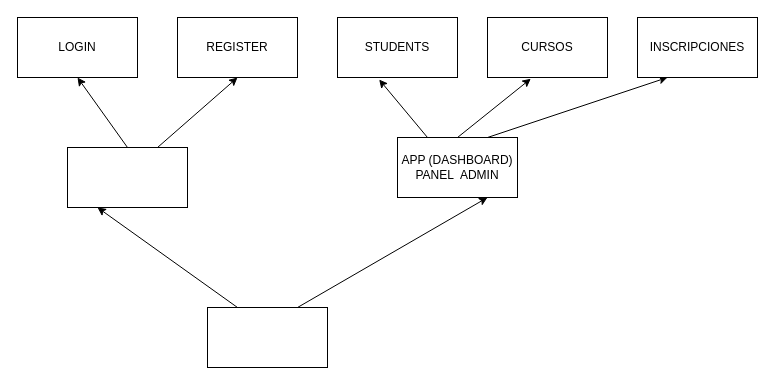
This 775x385 diagram has some shape labels left out. Each missing label, with the box of its shape:
APP.MODULE: (206, 306, 328, 368)
AUTH: (66, 146, 188, 208)
